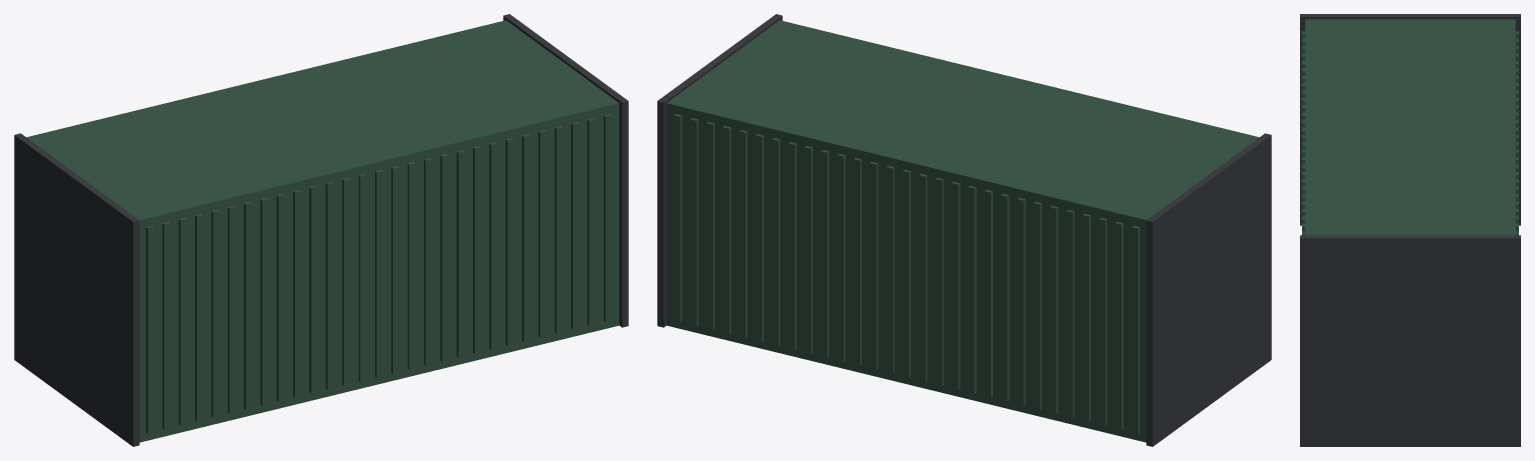
Rendered from container.glb.
3 views of the same model, side by side, from view 1: azimuth 30°, elevation 25°; view 2: azimuth 150°, elevation 25°; view 3: azimuth 270°, elevation 25° (orthographic). The views are drawn at different scales.
Parts seen in each view (by area): view 1: container; view 2: container; view 3: container.
Boxes of the visible parts, x1,y1,x2,y2 form: container: [14, 14, 628, 446]; container: [657, 14, 1271, 446]; container: [1300, 14, 1520, 446].
Size of the model in its own units: 6.06 by 2.63 by 2.52.
